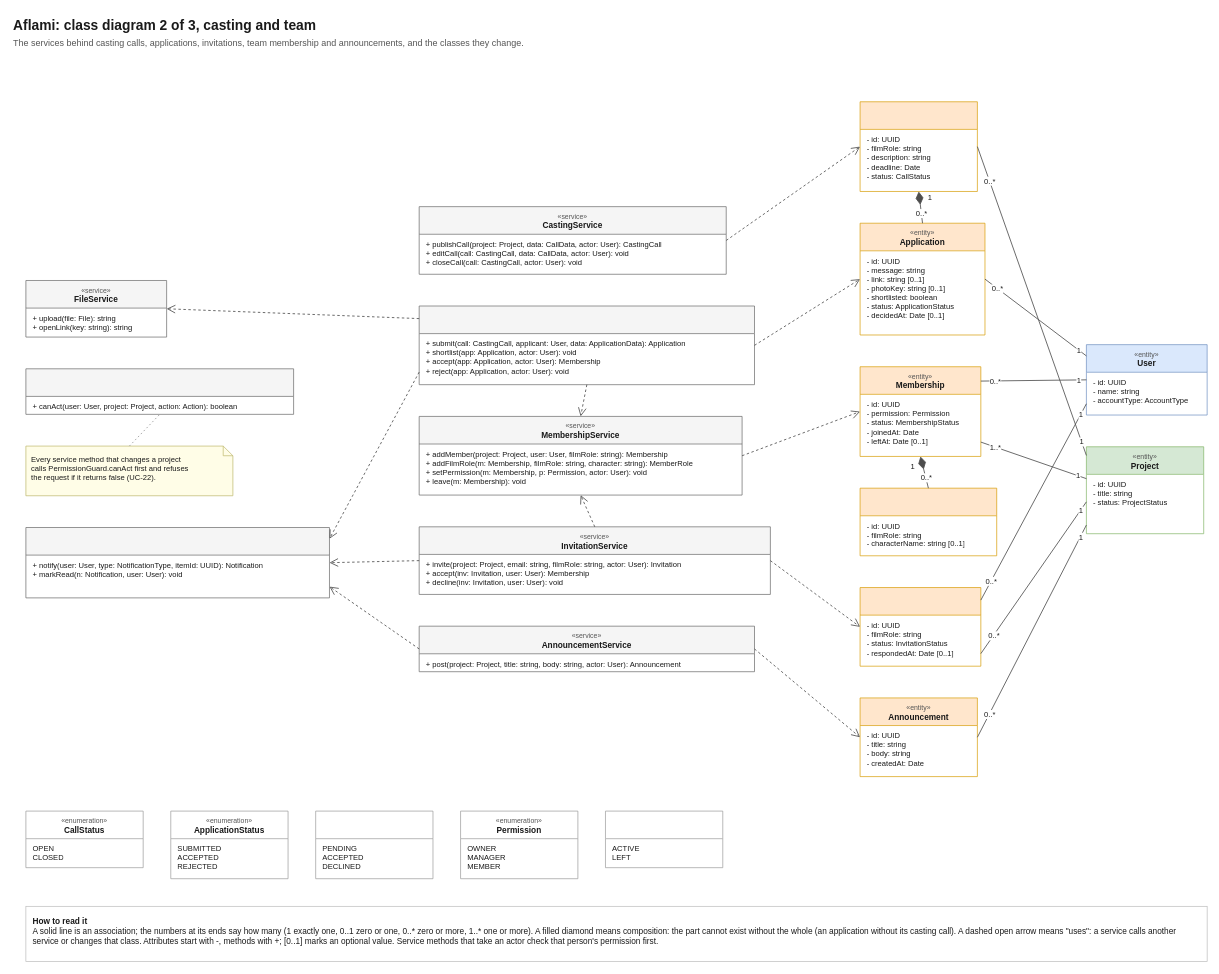
Image size: 1219x974. Some labels were removed from this diagram. The shapes that lost their labels are listed below. From the top down, each one's box as (x1, y1, x2, y2) in pixels, then its label:
(859, 101, 977, 191): «entity» CastingCall
(418, 305, 755, 385): «service» ApplicationService
(25, 368, 294, 414): «service» PermissionGuard
(859, 487, 997, 556): «entity» MemberRole
(25, 527, 329, 598): «service» NotificationService
(859, 587, 981, 666): «entity» Invitation
(315, 810, 433, 879): «enumeration» InvitationStatus
(605, 810, 723, 868): «enumeration» MembershipStatus
